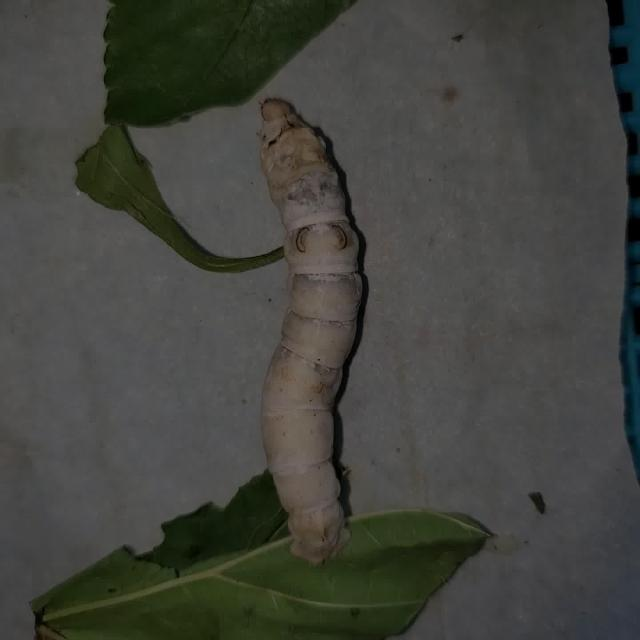Grasserie: (207, 76, 453, 607)
